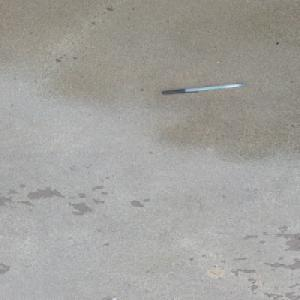Pen: (160, 82, 246, 95)
